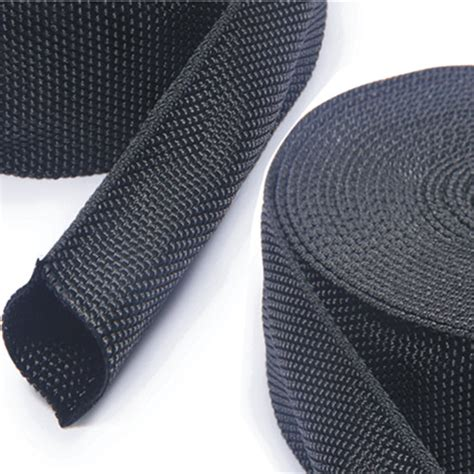nylon: (2, 2, 474, 474)
